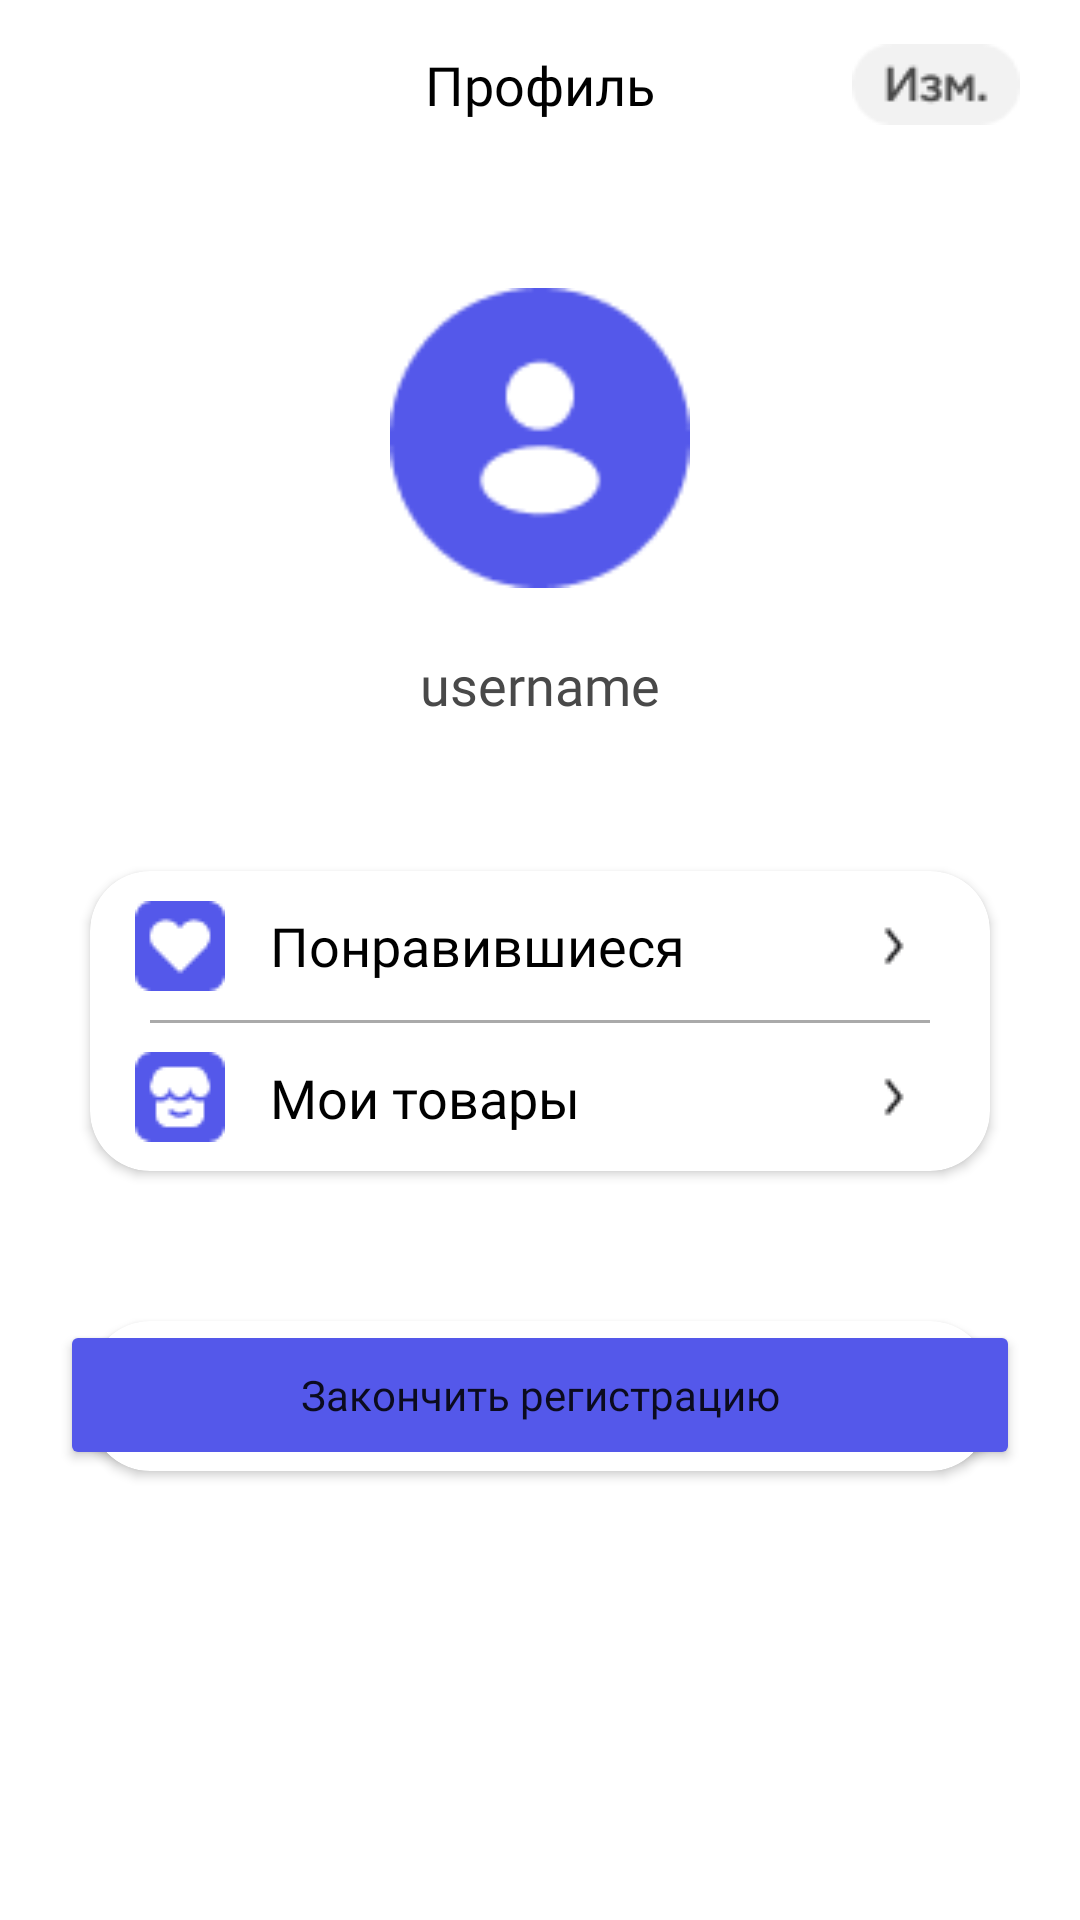

Icon bounding boxes for this 1080 × 1920 phone screenshot, format (x1, y1, x2, y2):
arrow: (884, 927, 904, 965), (884, 1078, 904, 1116)
liked: (135, 901, 225, 991)
products: (135, 1052, 225, 1142)
user photo: (390, 288, 690, 588)
